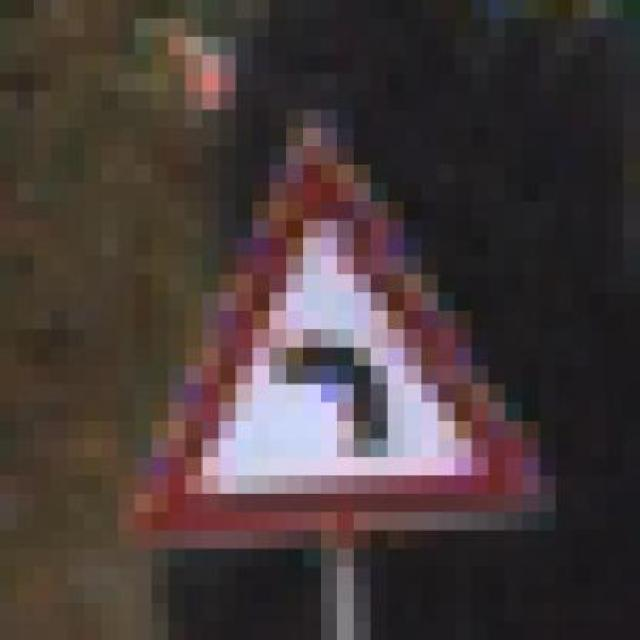Dangerous Left Curve Ahead: (84, 110, 573, 567)
